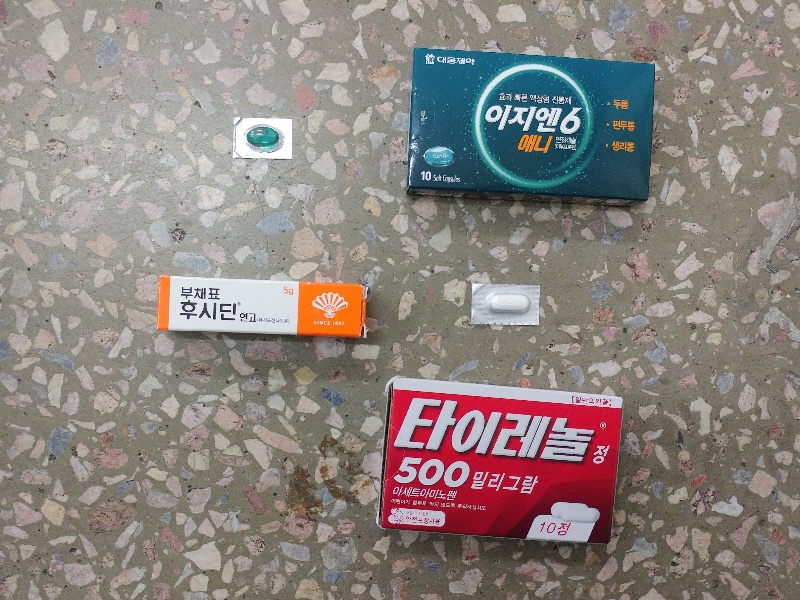ezn: (410, 46, 654, 203)
fucidin: (158, 274, 365, 334)
pill_ezn: (232, 115, 290, 158)
pill_tylenol: (471, 284, 539, 320)
tylenol: (380, 377, 622, 545)
